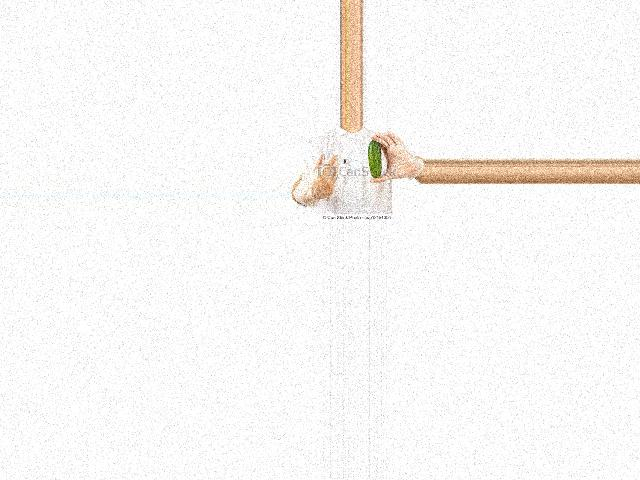cucumber: (369, 140, 382, 179)
